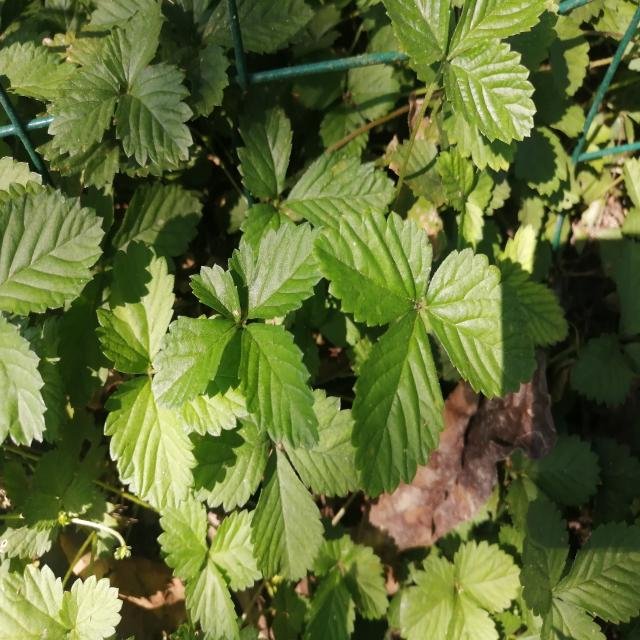Mock_strawberry: (117, 229, 327, 575), (325, 183, 531, 492)
